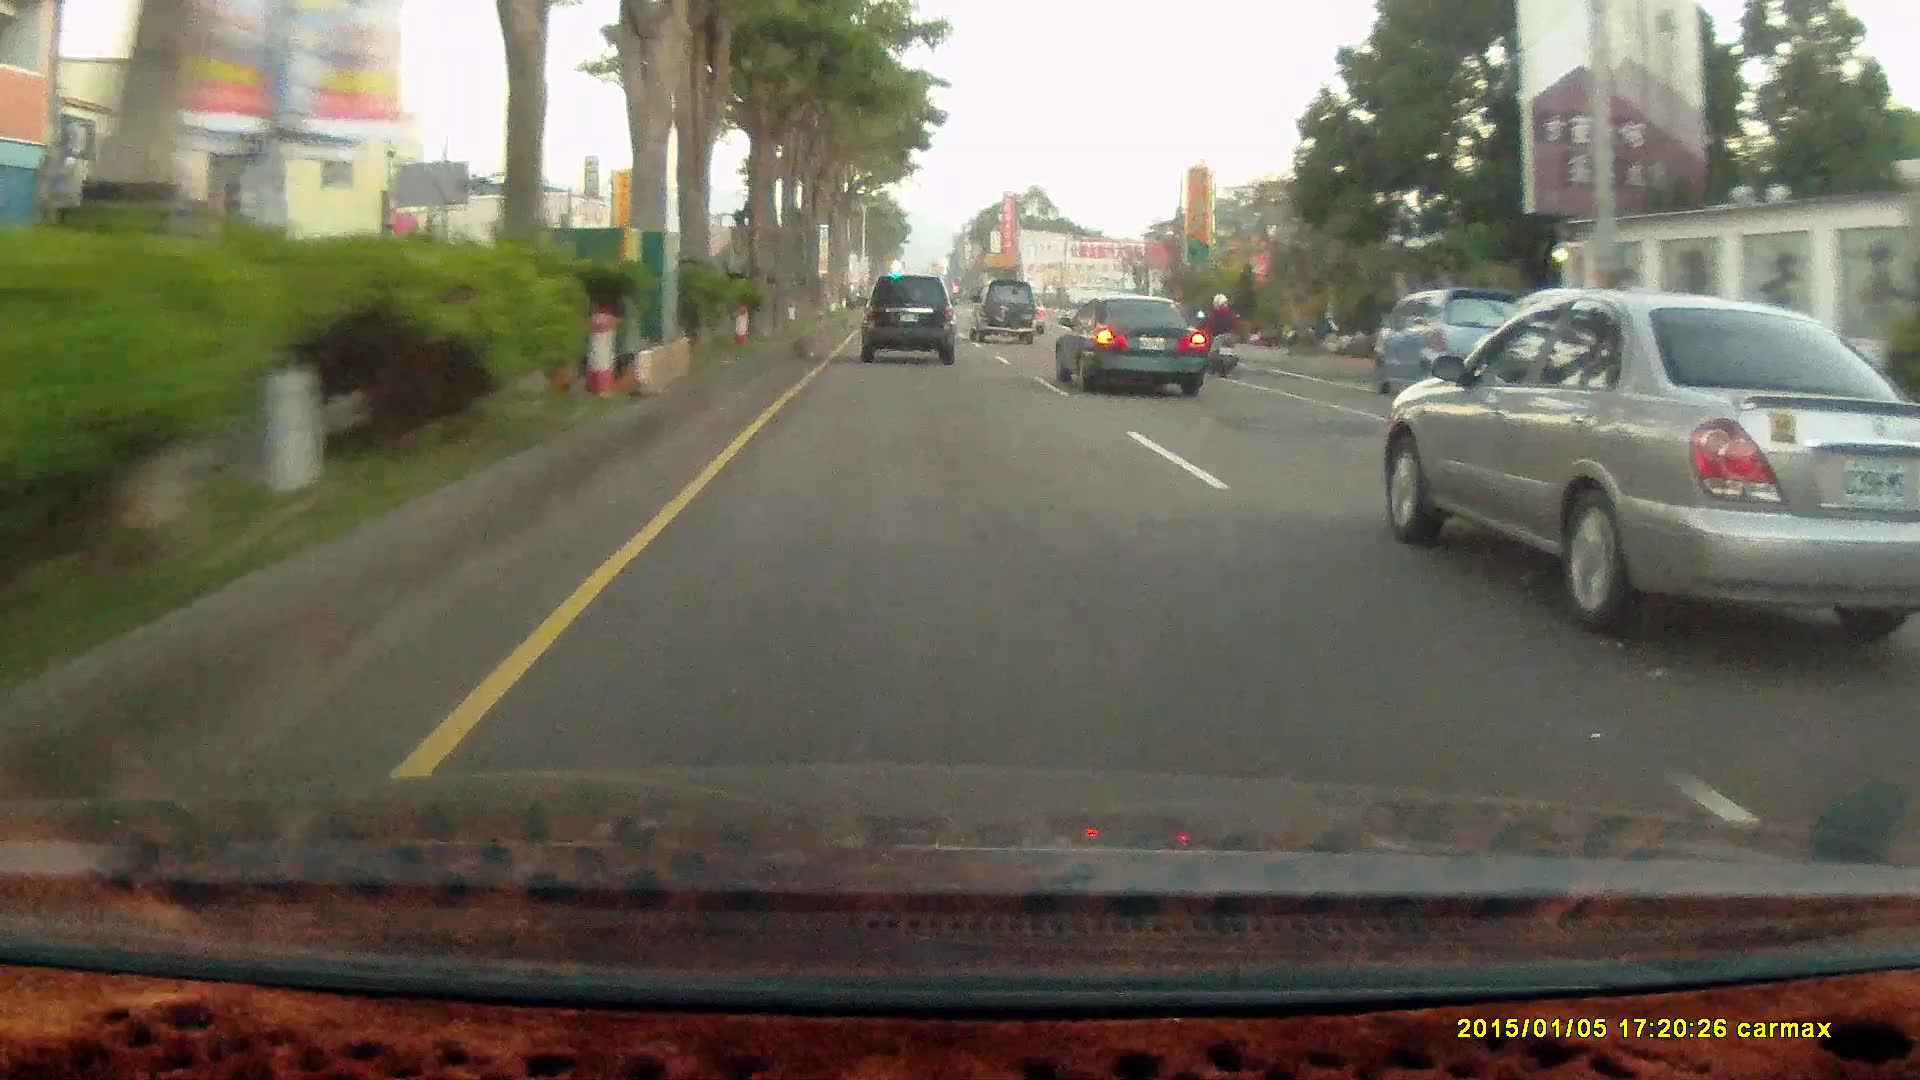rider: (1199, 294, 1242, 381)
vehicle: (1385, 299, 1920, 645), (1368, 285, 1537, 392), (1368, 289, 1538, 394), (1052, 292, 1207, 396), (1057, 295, 1211, 400), (859, 273, 964, 370), (856, 274, 955, 364), (969, 280, 1038, 348), (969, 279, 1037, 343)
